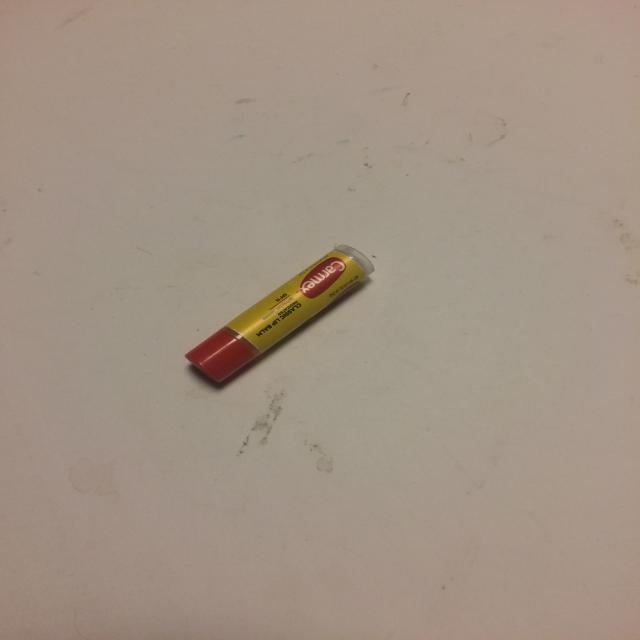trash: (184, 243, 375, 384)
